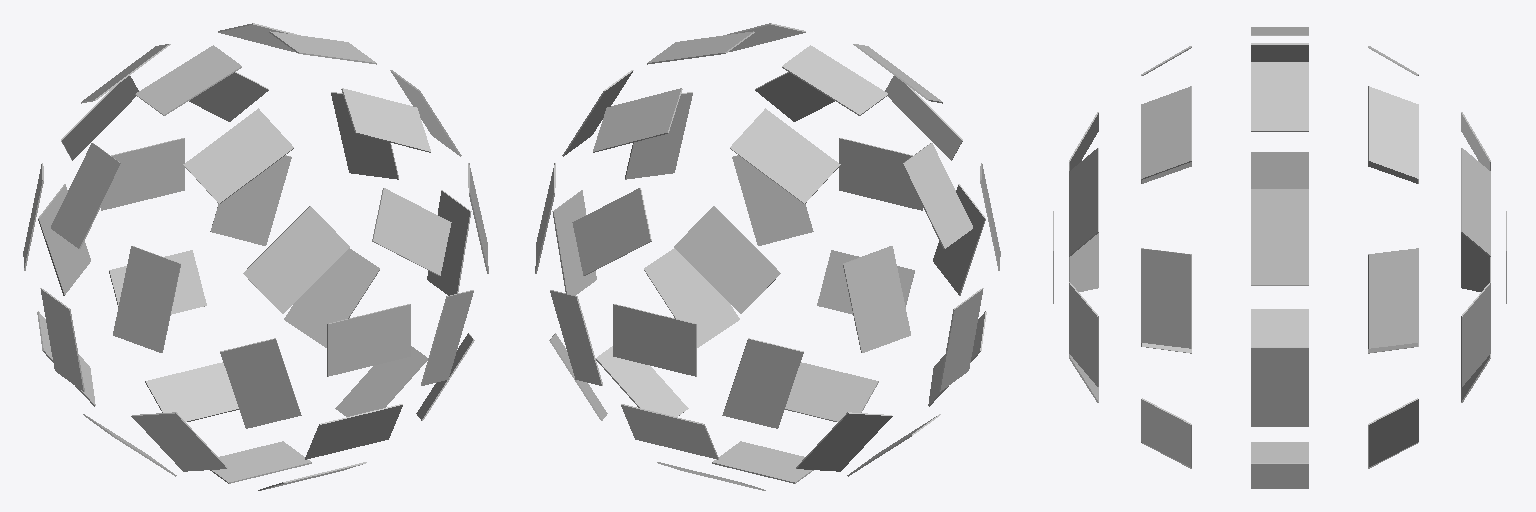
Rendered from single sphere.obj.
The picture shows the model from 3 angles: view 1: azimuth 30°, elevation 25°; view 2: azimuth 150°, elevation 25°; view 3: azimuth 270°, elevation 25°; orthographic projection.
Size of the model in its own units: 309 by 304 by 302.